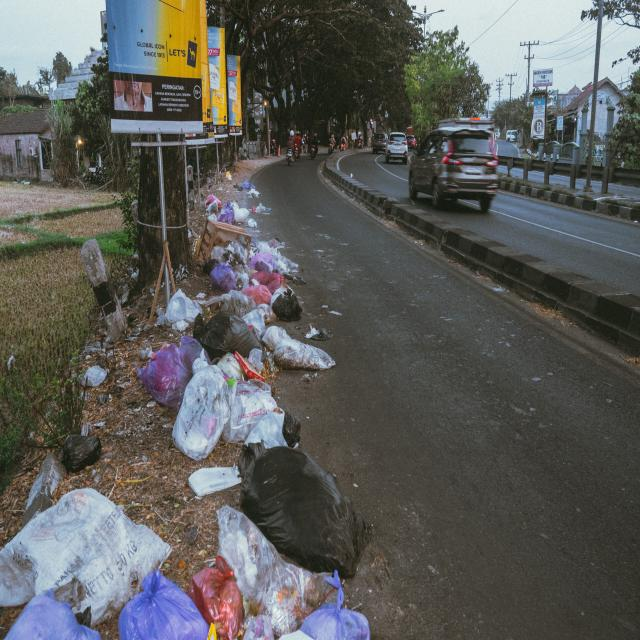trash: (0, 221, 376, 640)
